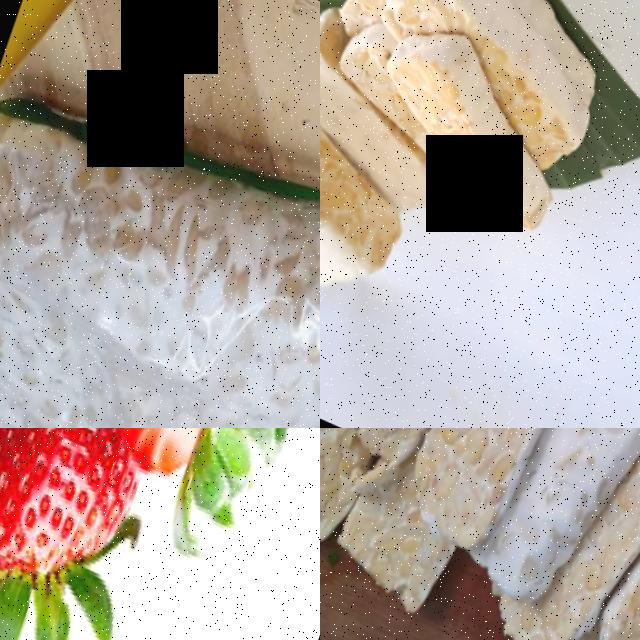strawberry: (0, 428, 151, 609), (120, 428, 320, 507)
tempeh: (0, 57, 320, 428), (368, 7, 588, 232), (400, 428, 640, 573), (476, 428, 614, 613), (320, 67, 427, 295), (587, 428, 640, 640), (320, 428, 378, 569)
